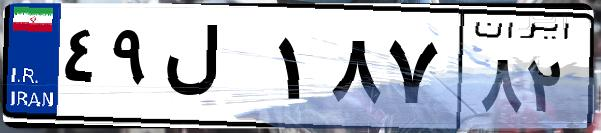1: (270, 28, 330, 110)
2: (525, 38, 570, 115)
4: (57, 26, 110, 100)
7: (385, 28, 445, 110)
8: (330, 28, 385, 110), (475, 38, 525, 113)
9: (110, 28, 158, 98)
ل: (158, 20, 270, 120)
